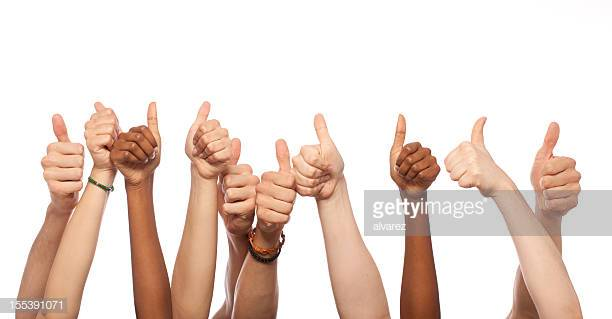thumbsup: (536, 122, 581, 211), (293, 113, 336, 197), (391, 113, 440, 185), (40, 113, 84, 193), (255, 139, 296, 224), (110, 101, 161, 169), (443, 116, 487, 188), (187, 100, 234, 165), (220, 138, 258, 213)
